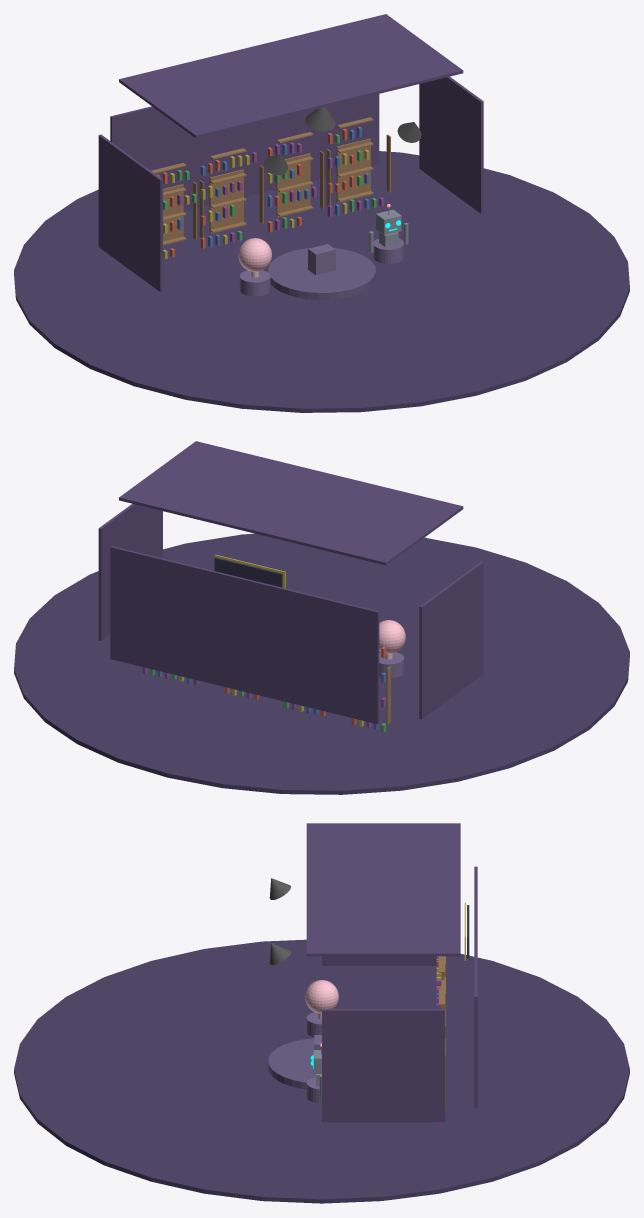
3 views of the same model, one above another, from view 1: azimuth 30°, elevation 25°; view 2: azimuth 150°, elevation 25°; view 3: azimuth 270°, elevation 25° (orthographic).
Parts seen in each view (by area): view 1: Floor, Ceiling, BackWall, WallLeft, WallRight, Stage, Bookshelf_R2, Bookshelf_L1, Bookshelf_R1, Bookshelf_L2, Robot, Brain (+4 smaller); view 2: Floor, BackWall, Ceiling, WallLeft, WallRight, Scoreboard, Brain, Bookshelf_L2, PedestalLeft; view 3: Floor, Ceiling, WallRight, Stage, WallLeft, BackWall, Brain.
Boxes of the visible parts, box(x1,y1,x2,y2) form: Floor: box(14, 151, 629, 412); Ceiling: box(119, 14, 463, 138); BackWall: box(110, 94, 379, 211); WallLeft: box(98, 134, 162, 291); WallRight: box(419, 76, 483, 213); Stage: box(268, 248, 375, 299); Bookshelf_R2: box(320, 117, 390, 217); Bookshelf_L1: box(193, 148, 263, 248); Bookshelf_R1: box(260, 132, 330, 232); Bookshelf_L2: box(151, 163, 203, 258); Robot: box(369, 204, 408, 252); Brain: box(238, 238, 271, 277); Floor: box(14, 533, 629, 794); BackWall: box(110, 546, 379, 724); Ceiling: box(119, 441, 463, 565); WallLeft: box(419, 561, 483, 719); WallRight: box(98, 503, 162, 640); Scoreboard: box(214, 557, 282, 587); Brain: box(379, 620, 405, 659); Bookshelf_L2: box(351, 647, 390, 732); PedestalLeft: box(379, 652, 404, 678); Floor: box(14, 939, 629, 1203); Ceiling: box(306, 823, 460, 956); WallRight: box(322, 1009, 445, 1122); Stage: box(268, 1038, 315, 1089); WallLeft: box(322, 956, 436, 965); BackWall: box(474, 866, 477, 1108); Brain: box(305, 980, 338, 1019).
Size of the model in its own units: 40 by 13.64 by 40.
